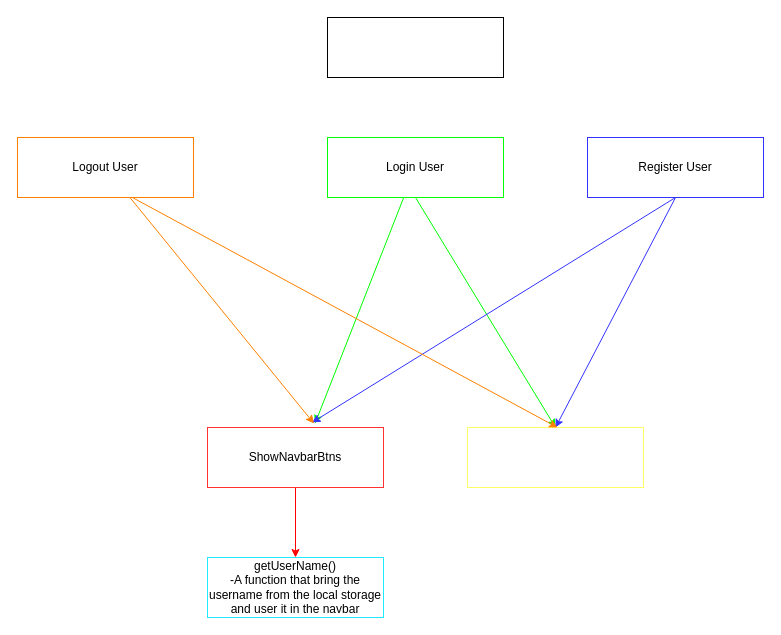
Some shapes in this 781 by 635 pixel diagram are drawn without their labels. Here are the shapes that lost their labels. From the top down, the centre of each, then its label:
point 415,47: Add Post
point 555,457: Show Alert(Message, Type)
